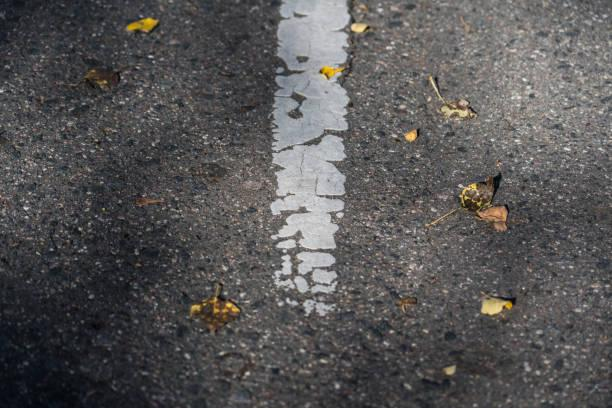faded_road_lines: (253, 0, 363, 408)
